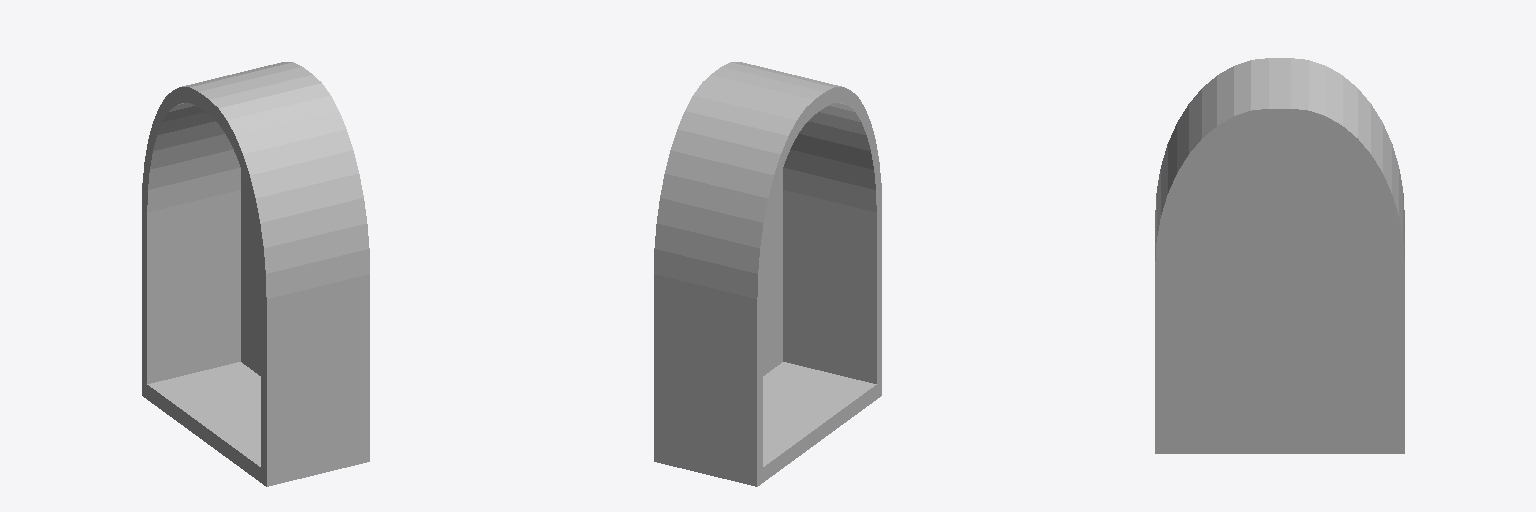
The model's file is fingercase.obj.
3 renders of one model, left to right at view 1: azimuth 30°, elevation 25°; view 2: azimuth 150°, elevation 25°; view 3: azimuth 270°, elevation 25°, orthographic.
Parts seen in each view (by area): view 1: fingertip; view 2: fingertip; view 3: fingertip.
Boxes of the visible parts, x1=… form: fingertip: x1=142, y1=62, x2=369, y2=486; fingertip: x1=654, y1=62, x2=881, y2=486; fingertip: x1=1155, y1=58, x2=1404, y2=453.
Size of the model in its own units: 0.6366 by 2.03 by 1.33.